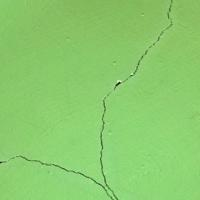crack: (1, 8, 169, 199)
